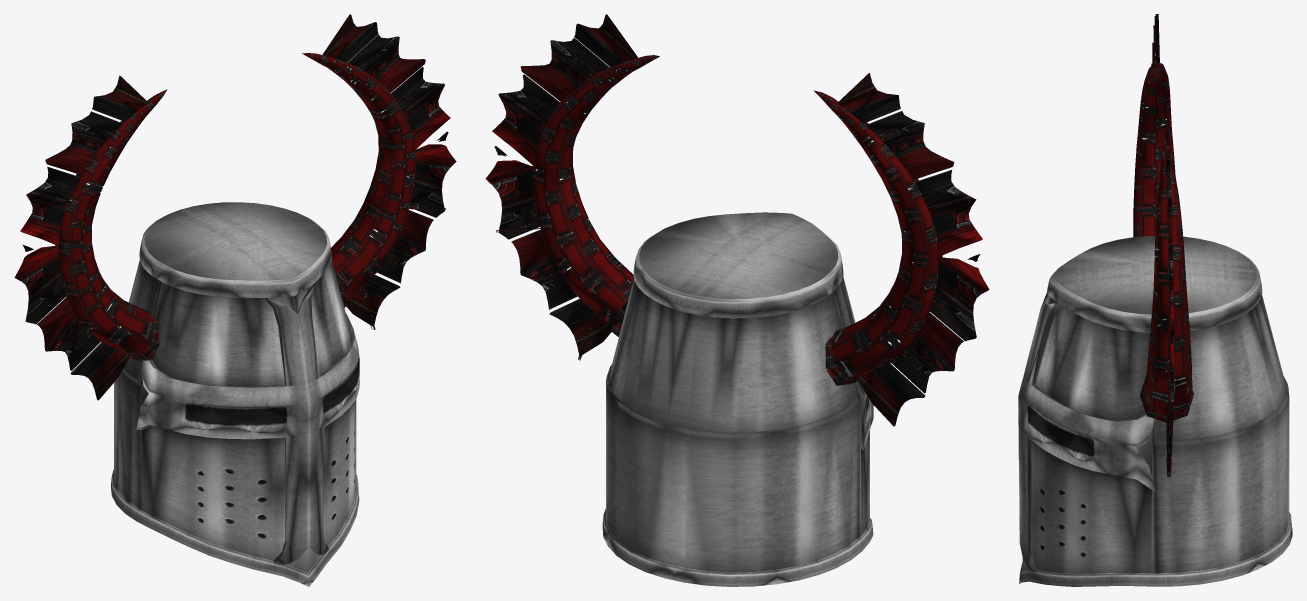
File: Helmet.fbx
3 renders of one model, left to right at view 1: azimuth 30°, elevation 25°; view 2: azimuth 150°, elevation 25°; view 3: azimuth 270°, elevation 25°, orthographic. The views are drawn at different scales.
Parts seen in each view (by area): view 1: Knight.001; view 2: Knight.001; view 3: Knight.001.
Boxes of the visible parts, x1,y1,x2,y2 form: Knight.001: (14,14,456,586); Knight.001: (485,14,989,586); Knight.001: (1018,14,1292,586).
Size of the model in its own units: 79.24 by 82.68 by 40.47.
2 materials, 2 textured.
